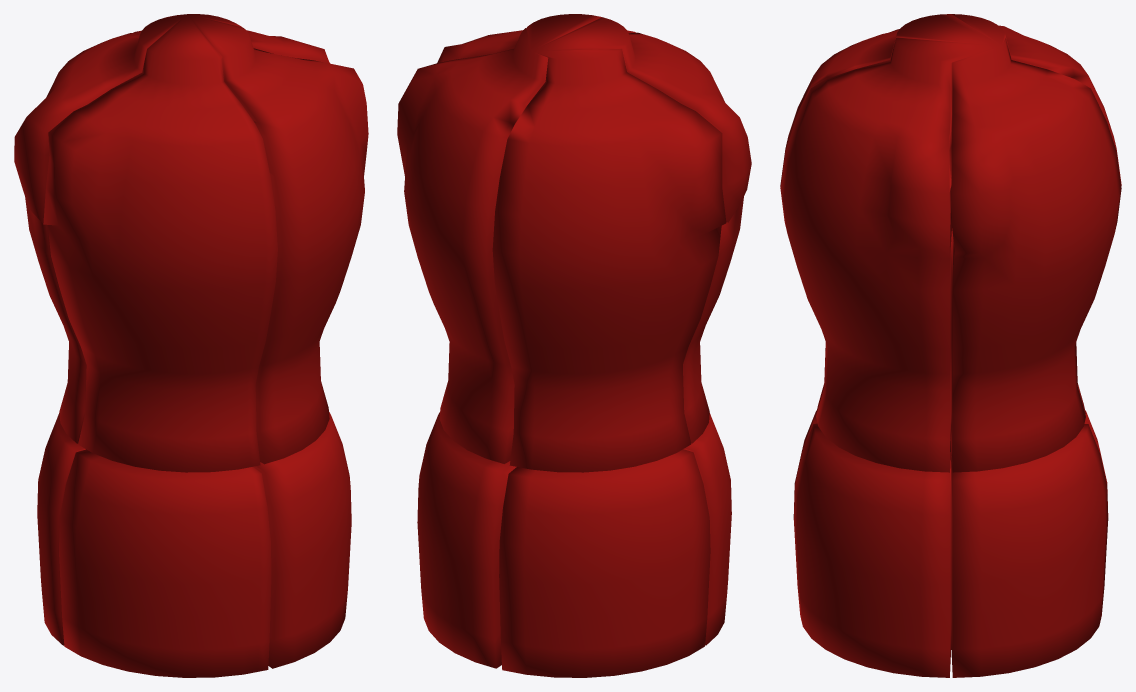
Rendered from Mannequin.fbx.
3 renders of one model, left to right at view 1: azimuth 30°, elevation 25°; view 2: azimuth 150°, elevation 25°; view 3: azimuth 270°, elevation 25°, orthographic.
Visible parts, largest first — view 1: Cylinder; view 2: Cylinder; view 3: Cylinder.
Part boxes in pixels (left/top/right/bottom): Cylinder: left=14, top=14, right=368, bottom=677; Cylinder: left=397, top=14, right=751, bottom=677; Cylinder: left=780, top=14, right=1121, bottom=677.
Bounding box in the file's own units: 230 × 407 × 218.
